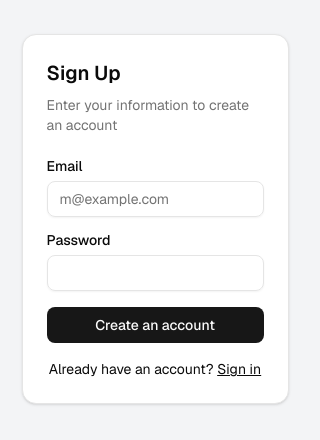
Test: Register Page (Use Case 1) › should show a generic error for invalid email (TS-1.4)
Note: Test Steps
Type "bad-email" into the field labelled "Email" at (155, 199), box [46,181,264,217]
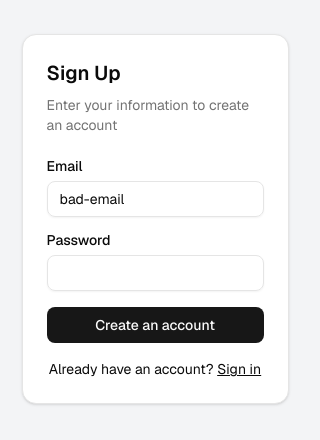
Type "password123" into the password field labelled "Password" at (155, 273), box [46,255,264,291]
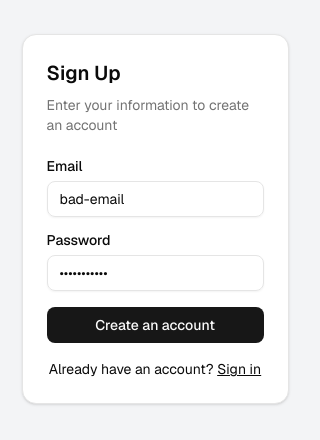
Note: Test Step: Submit
Submit the form "Email Password Create an account", box [46,159,264,343]
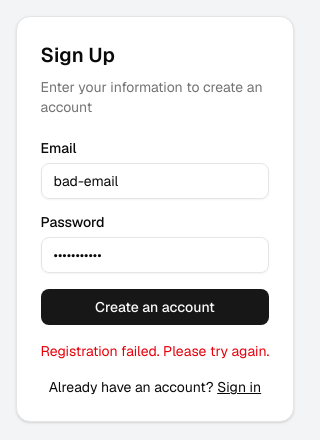
Expected: the text "Registration failed. Please try again." is shown, [40,341,269,361]
